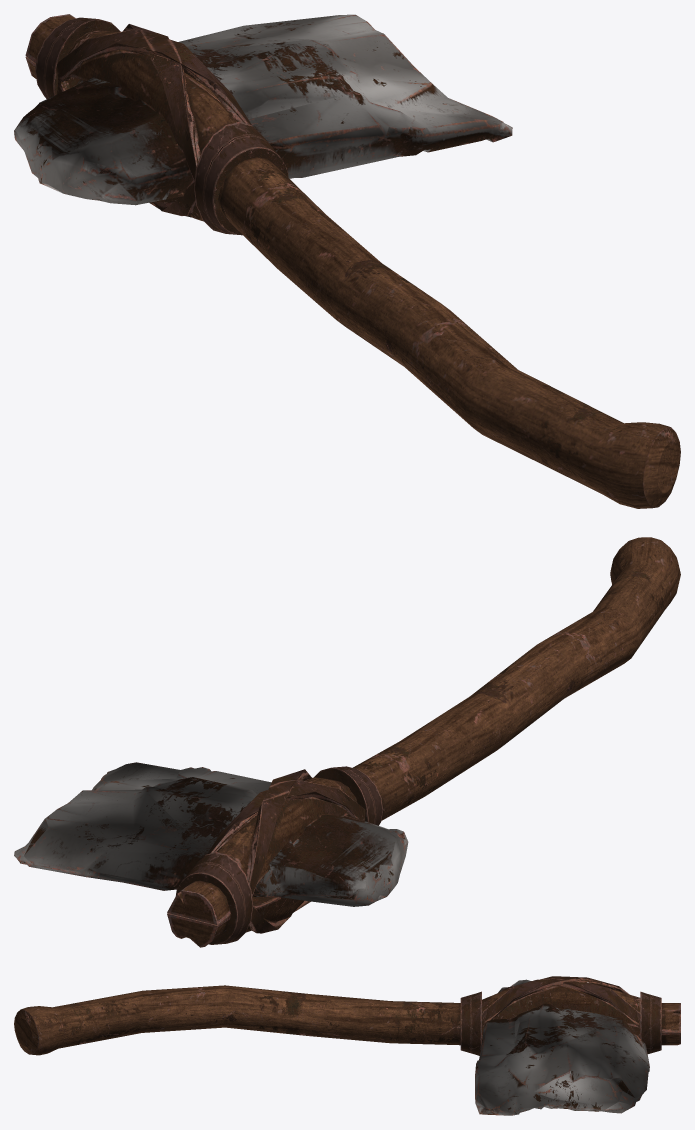
File: alat-batu-dan-jejak-pakai.glb
3 views of the same model, one above another, from view 1: azimuth 30°, elevation 25°; view 2: azimuth 150°, elevation 25°; view 3: azimuth 270°, elevation 25° (orthographic). The views are drawn at different scales.
Visible parts, largest first — view 1: Cylinder001_22 - Default_0; view 2: Cylinder001_22 - Default_0; view 3: Cylinder001_22 - Default_0.
Part boxes in pixels (box(x1,y1,x2,y2)): Cylinder001_22 - Default_0: box(14, 14, 680, 508); Cylinder001_22 - Default_0: box(14, 537, 680, 947); Cylinder001_22 - Default_0: box(14, 976, 680, 1115).
Bounding box in the file's own units: 7.4 × 2.83 × 18.49.
Materials: 1 (1 with a texture image).
